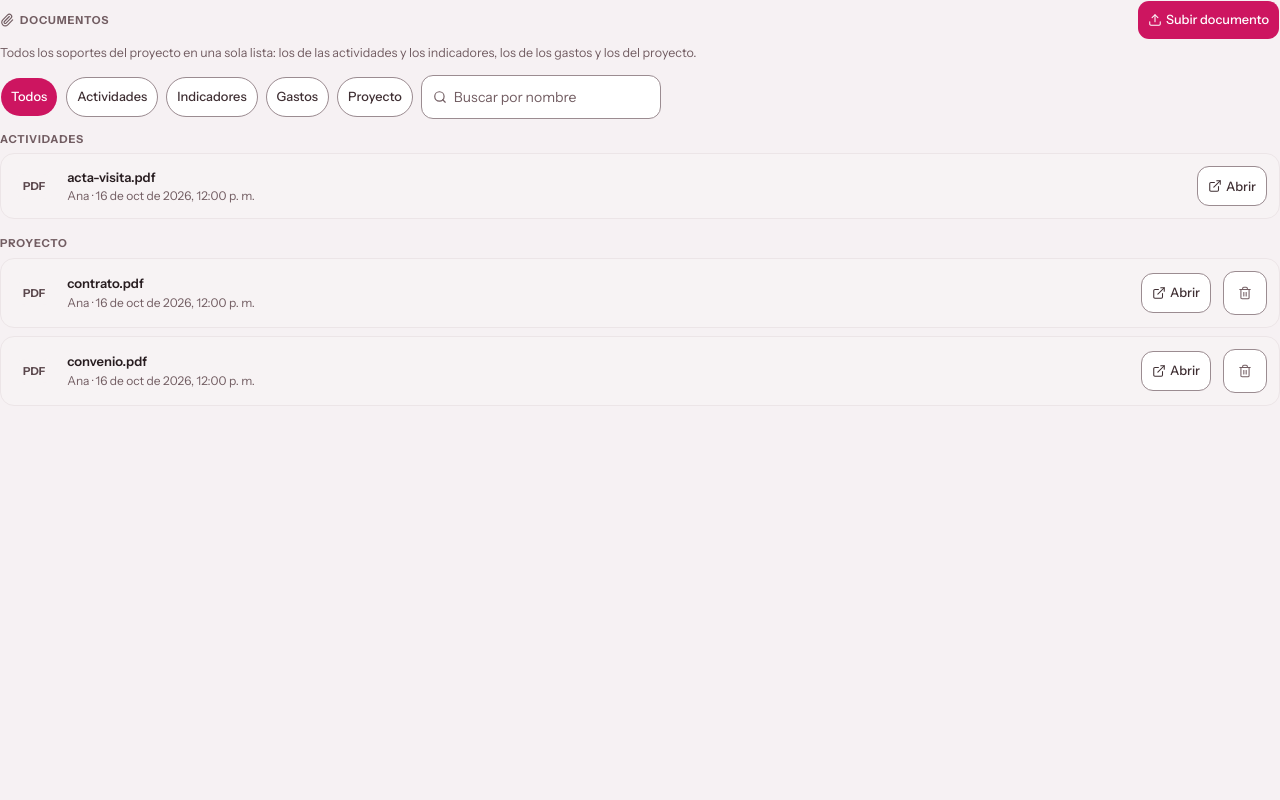
Test: FichaDocumentos: project documents (upload, open, delete) › locks Cancelar while the delete is in flight
Click the button named "Eliminar contrato.pdf".
click(1245, 293)  # box [1223,271,1267,315]
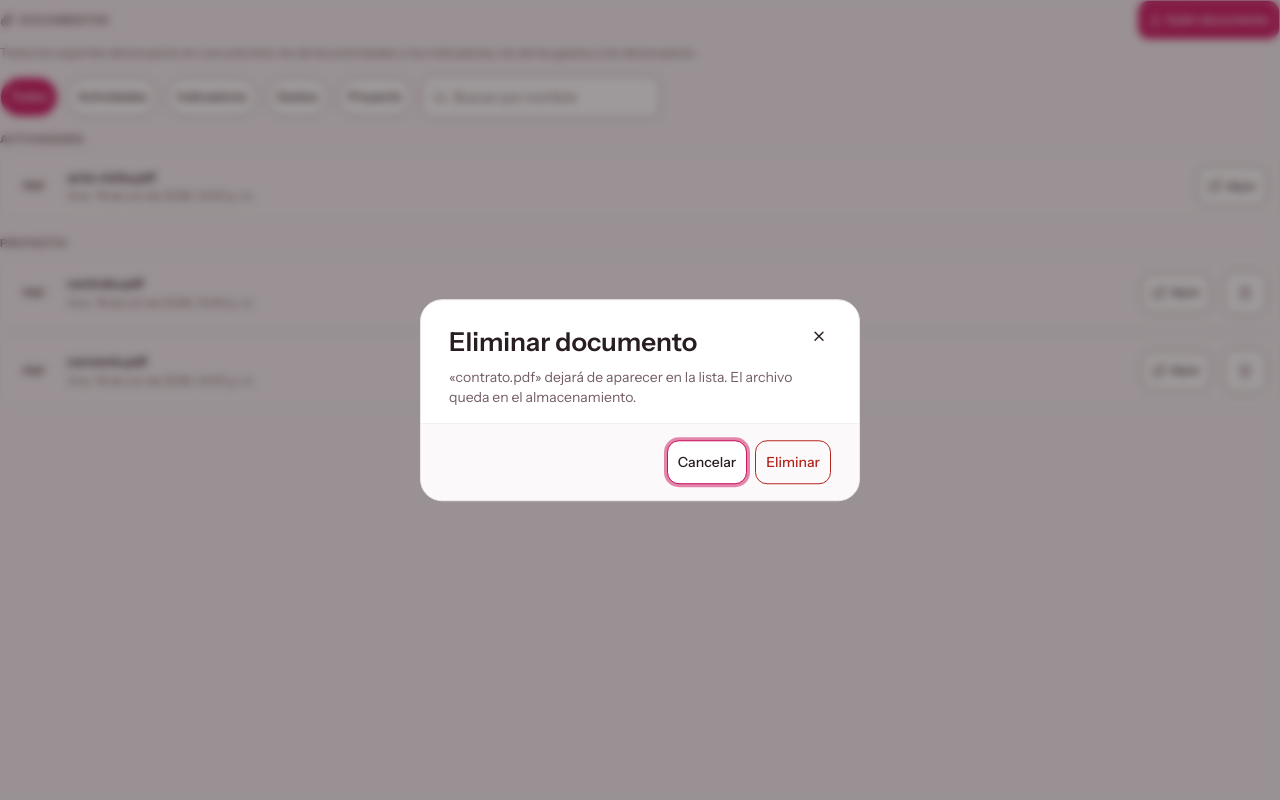
Click the button "Eliminar".
click(793, 462)  # box [755,440,831,484]
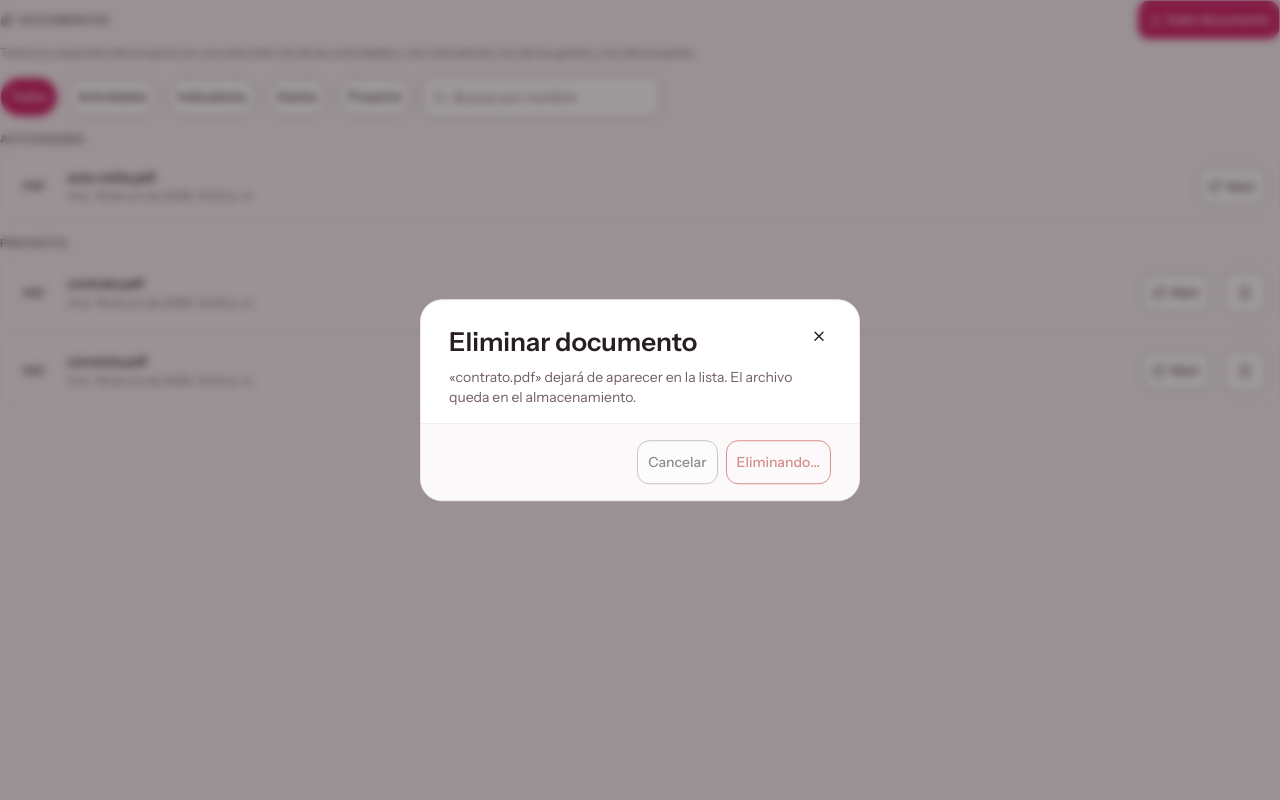
Expected: the button "Eliminando…" is disabled, [726,440,831,484]
Expected: the button "Cancelar" is disabled, [637,440,718,484]
